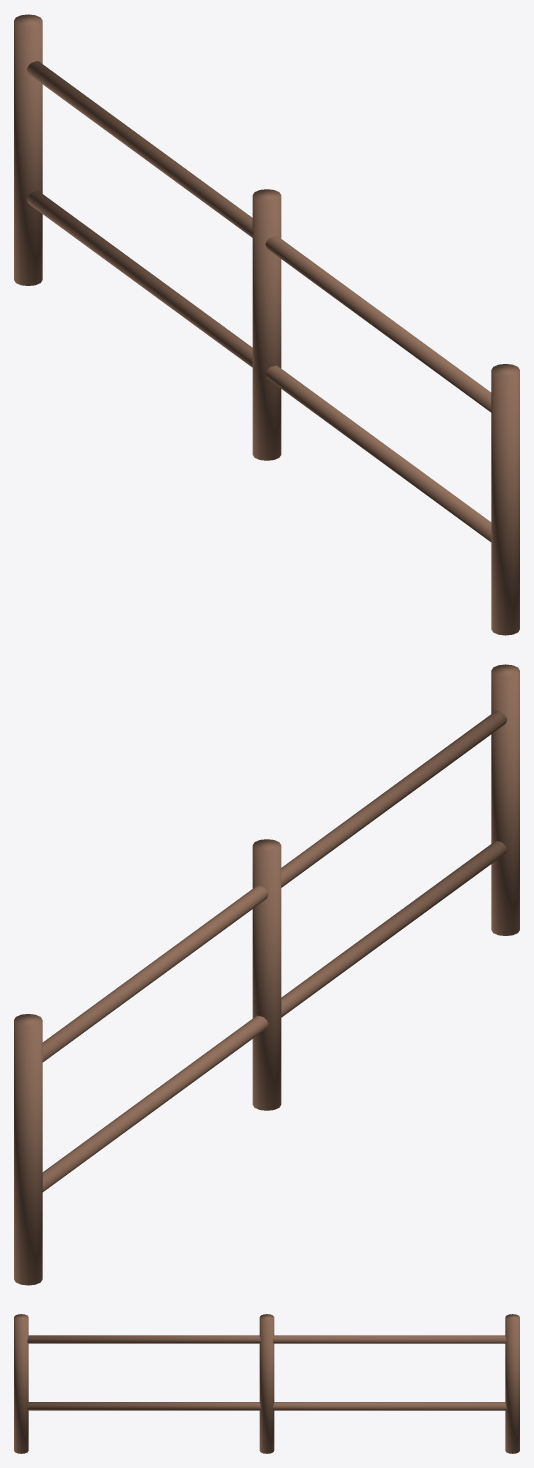
Rendered from Fence.fbx.
3 renders of one model, top to bottom at view 1: azimuth 30°, elevation 25°; view 2: azimuth 150°, elevation 25°; view 3: azimuth 270°, elevation 25°, orthographic. The views are drawn at different scales.
Parts seen in each view (by area): view 1: CrossRail1, CrossRail0.4, Post4, Post2, Post0; view 2: CrossRail1, CrossRail0.4, Post0, Post2, Post4; view 3: CrossRail0.4, CrossRail1, Post2, Post0, Post4.
Boxes of the visible parts, x1,y1,x2,y2 form: CrossRail1: [26, 61, 491, 412]; CrossRail0.4: [26, 191, 491, 541]; Post4: [491, 364, 519, 635]; Post2: [252, 189, 281, 460]; Post0: [14, 14, 42, 285]; CrossRail1: [42, 711, 507, 1062]; CrossRail0.4: [42, 841, 507, 1191]; Post0: [14, 1014, 42, 1285]; Post2: [252, 839, 281, 1110]; Post4: [491, 664, 519, 935]; CrossRail0.4: [27, 1402, 506, 1410]; CrossRail1: [27, 1335, 506, 1343]; Post2: [259, 1314, 274, 1453]; Post0: [505, 1314, 519, 1453]; Post4: [14, 1314, 28, 1453].
Bounding box in the file's own units: 0.12 × 1.2 × 4.12.
